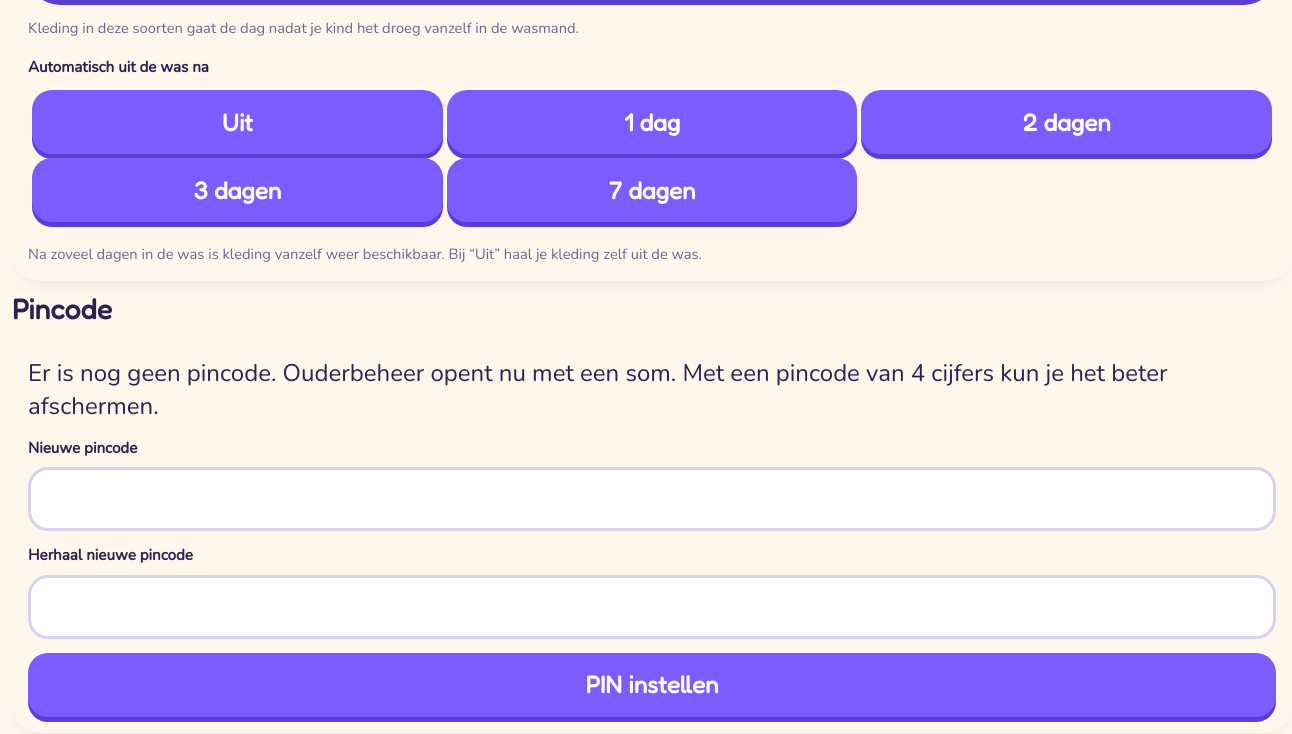
Test case: pincode instellen › weigert twee verschillende pincodes
The width and height of the screenshot is (1292, 734).
(page scrolled)
Expected: the button "PIN instellen" is shown, [28, 653, 1276, 717]
Type "1357" into the password field labelled "Nieuwe pincode".
click(652, 499); type("1357")  # box [28, 467, 1276, 531]
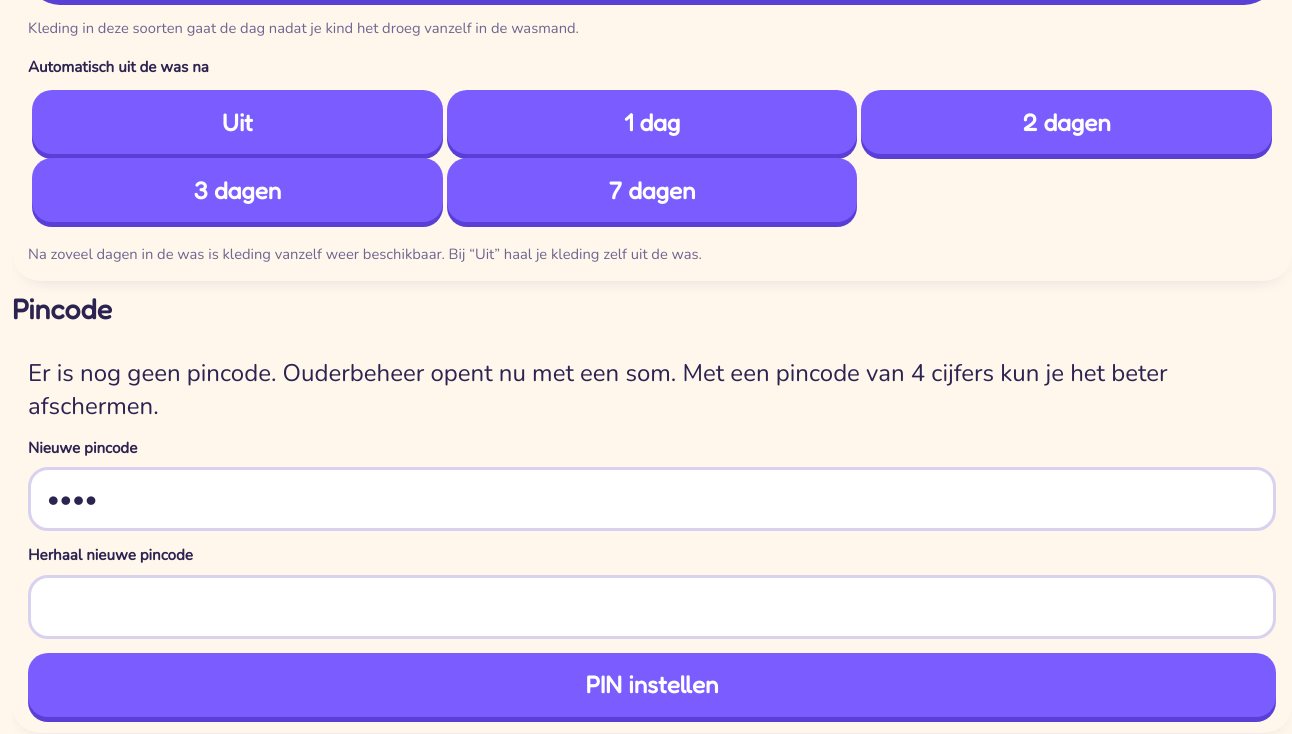
Type "1358" into the password field labelled "Herhaal nieuwe pincode".
click(652, 607); type("1358")  # box [28, 575, 1276, 639]
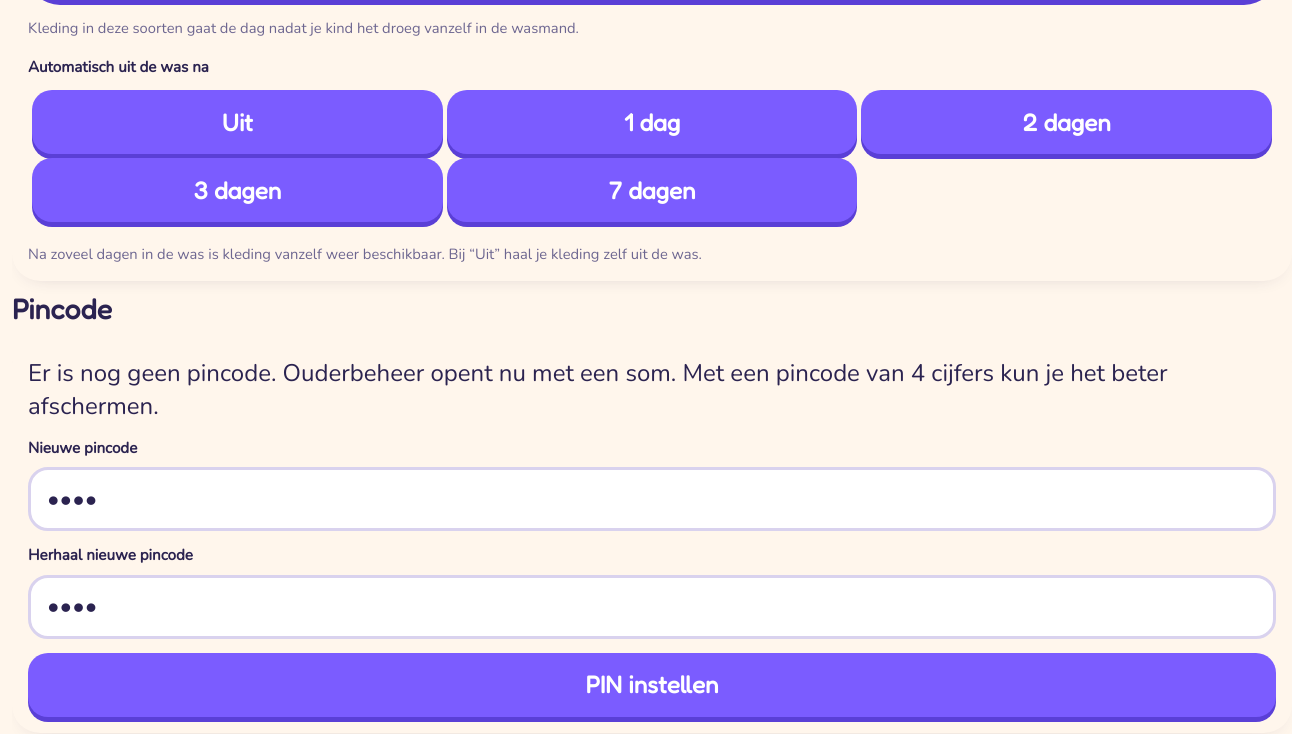
Click the button "PIN instellen".
click(652, 685)  # box [28, 653, 1276, 717]
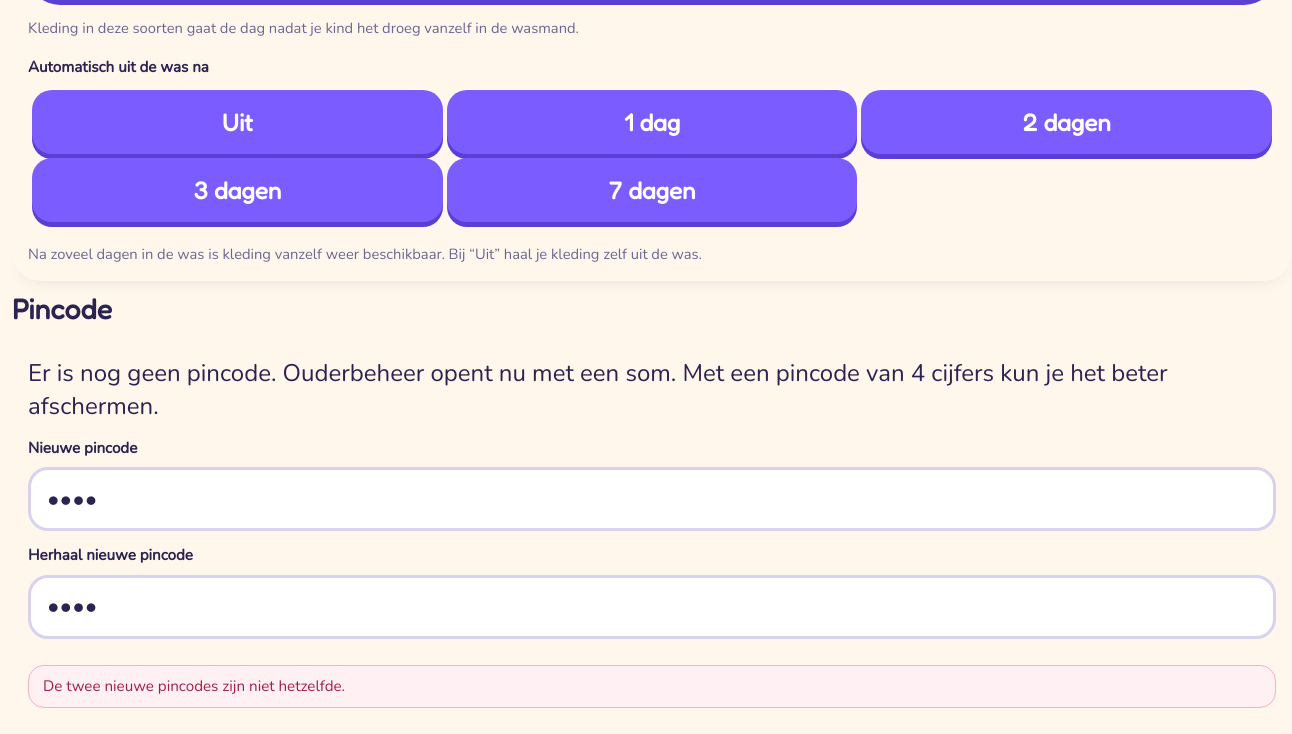
Now the message shows "niet hetzelfde", box [43, 676, 345, 696]
